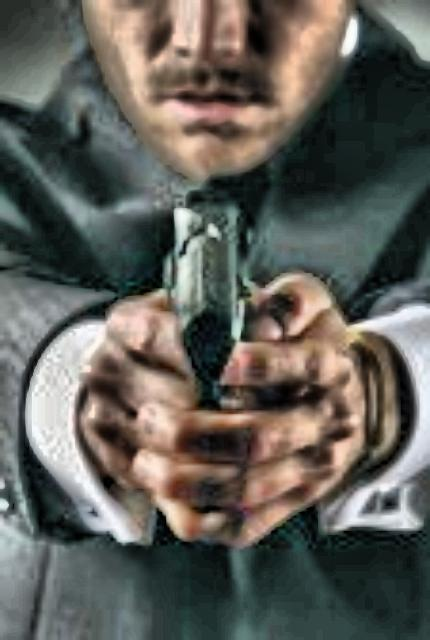pistol: (149, 176, 255, 434)
